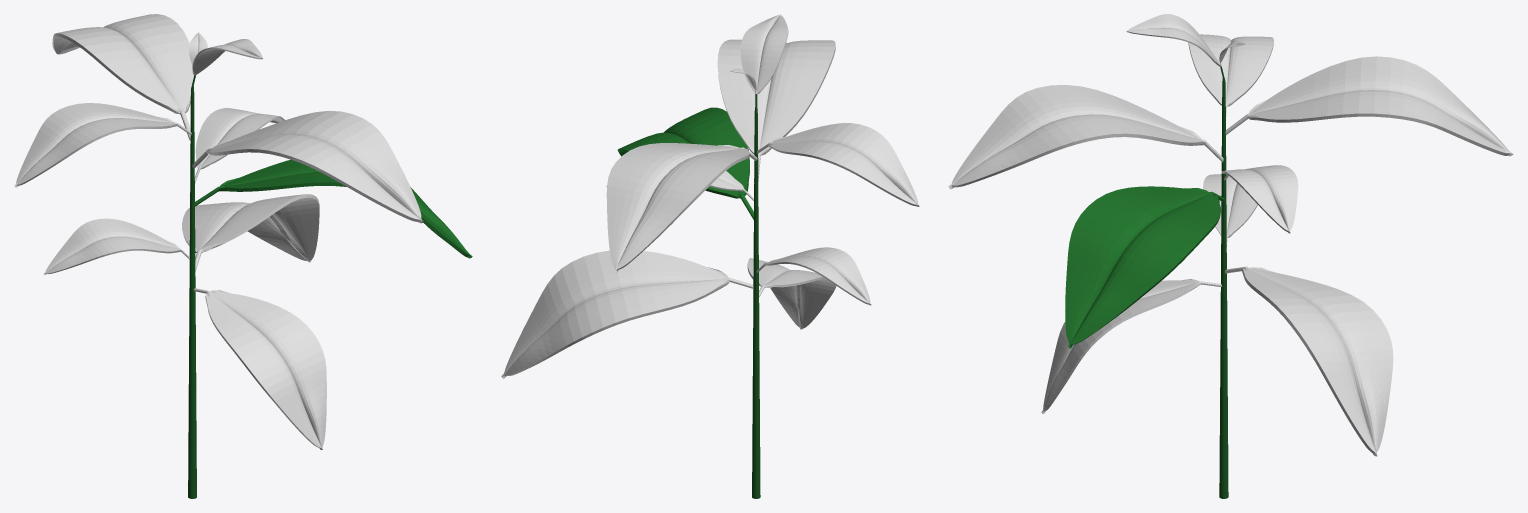
The model's file is leaves.glb.
3 views of the same model, side by side, from view 1: azimuth 30°, elevation 25°; view 2: azimuth 150°, elevation 25°; view 3: azimuth 270°, elevation 25° (orthographic). The views are drawn at different scales.
Visible parts, largest first — view 1: leaf8, leaf1, leaf, leaf7, leaf2, leaf6, leaf5, stem, leaf4, smallLeaf; view 2: leaf7, leaf, leaf1, leaf2, leaf5, leaf8, stem, smallLeaf, leaf6; view 3: leaf5, leaf7, leaf, leaf1, leaf2, leaf8, stem, leaf4, leaf6, smallLeaf.
Part boxes in pixels (<box>): leaf8: <box>193,288,326,449</box>; leaf1: <box>192,110,423,223</box>; leaf: <box>52,14,194,140</box>; leaf7: <box>182,194,319,271</box>; leaf2: <box>14,103,191,187</box>; leaf6: <box>43,218,189,274</box>; leaf5: <box>194,159,472,258</box>; stem: <box>188,75,196,498</box>; leaf4: <box>194,108,284,183</box>; smallLeaf: <box>192,39,262,75</box>; leaf7: <box>501,250,753,378</box>; leaf: <box>606,143,757,272</box>; leaf1: <box>717,39,835,182</box>; leaf2: <box>757,123,919,206</box>; leaf5: <box>617,107,753,219</box>; leaf8: <box>747,258,836,329</box>; stem: <box>752,94,760,498</box>; smallLeaf: <box>740,14,788,94</box>; leaf6: <box>756,247,871,305</box>; leaf5: <box>1065,186,1224,348</box>; leaf7: <box>1224,266,1393,456</box>; leaf: <box>1225,56,1513,156</box>; leaf1: <box>948,85,1223,189</box>; leaf2: <box>1188,34,1273,116</box>; leaf8: <box>1041,279,1222,413</box>; stem: <box>1219,67,1228,498</box>; leaf4: <box>1221,165,1298,233</box>; leaf6: <box>1203,174,1257,246</box>; smallLeaf: <box>1126,14,1221,67</box>.
Size of the model in its own units: 0.8509 by 1.01 by 1.08.
